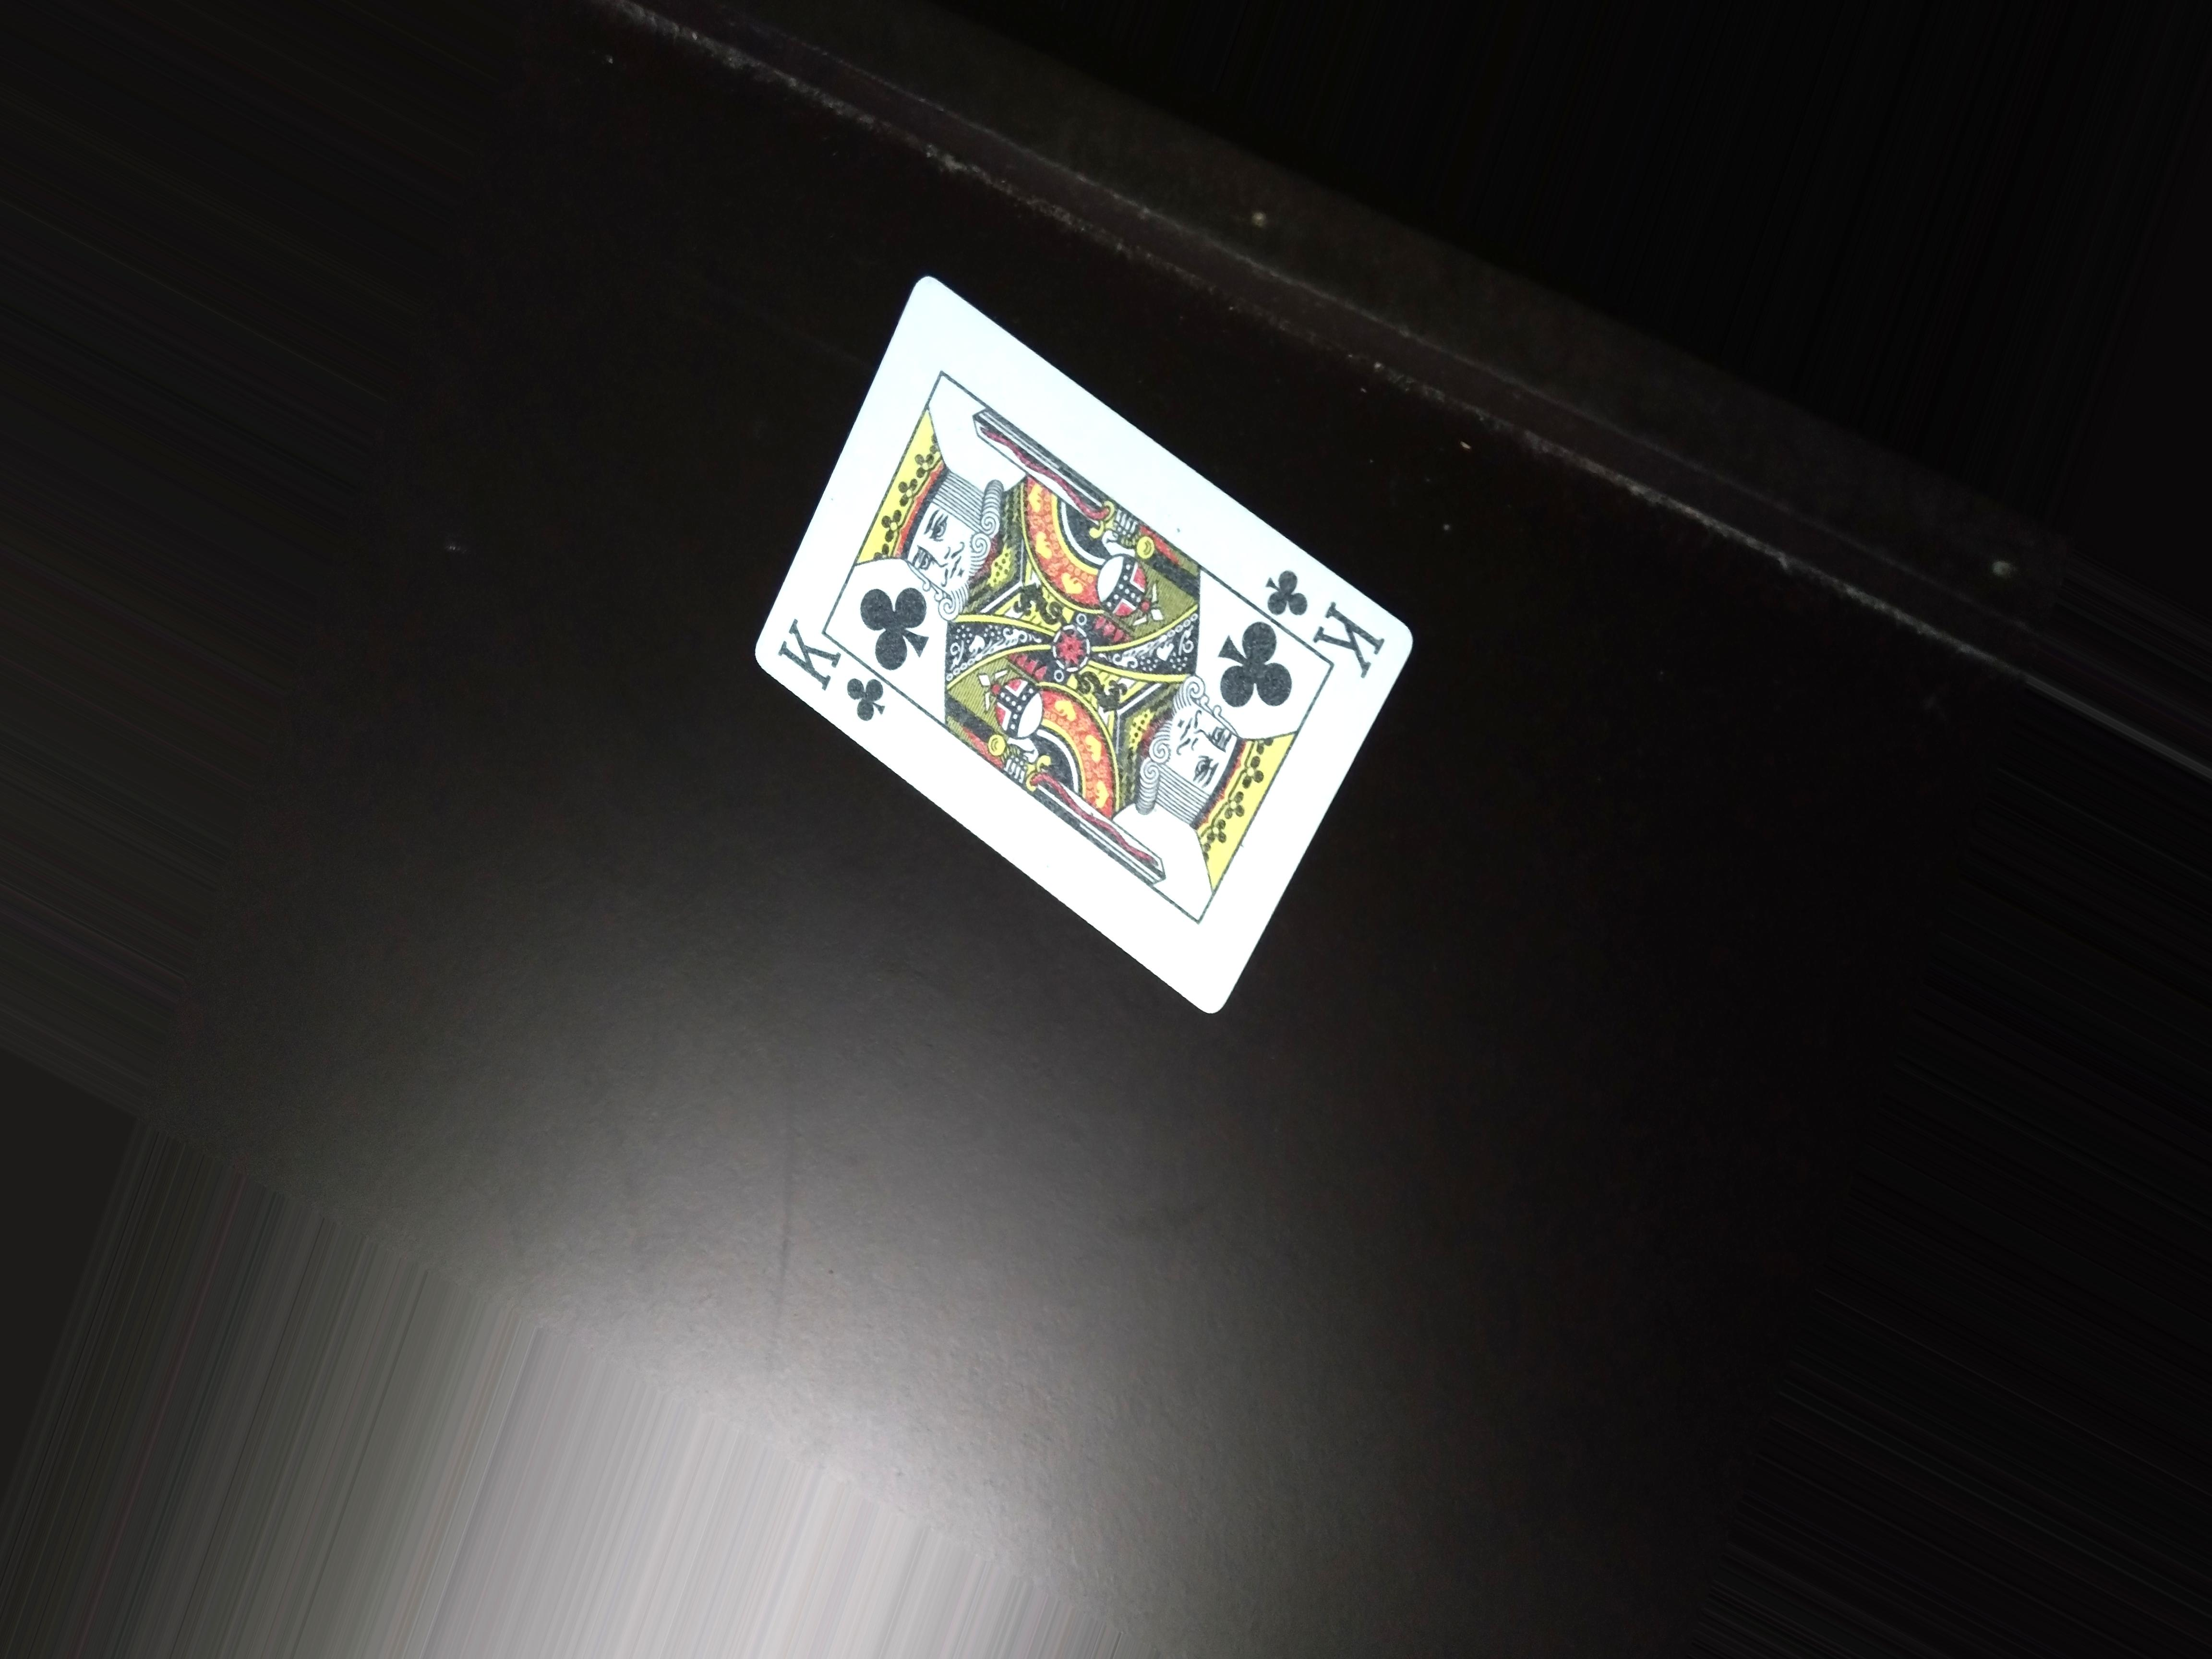KC: (765, 626, 900, 730)
